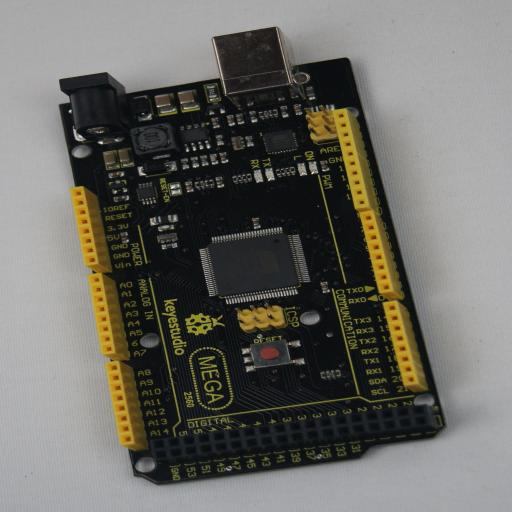Arduino Mega 2560 -Black and Yellow-: (59, 26, 447, 486)
